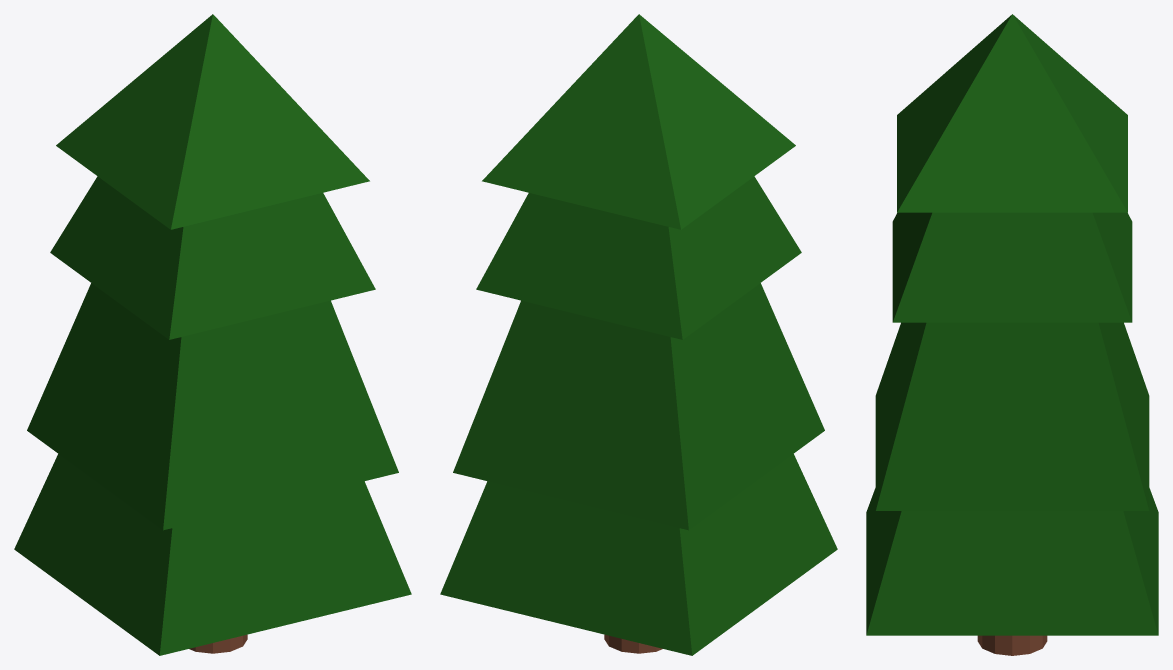
Rendered from Tree_17_autumn_mat.fbx.
3 views of the same model, side by side, from view 1: azimuth 30°, elevation 25°; view 2: azimuth 150°, elevation 25°; view 3: azimuth 270°, elevation 25° (orthographic).
Visible parts, largest first — view 1: Tree_17_autumn_mat; view 2: Tree_17_autumn_mat; view 3: Tree_17_autumn_mat.
Boxes of the visible parts, <box> form: Tree_17_autumn_mat: <box>14,14,411,655</box>; Tree_17_autumn_mat: <box>440,14,837,655</box>; Tree_17_autumn_mat: <box>866,14,1158,655</box>.
Bounding box in the file's own units: 2.62 × 6.21 × 2.62.
